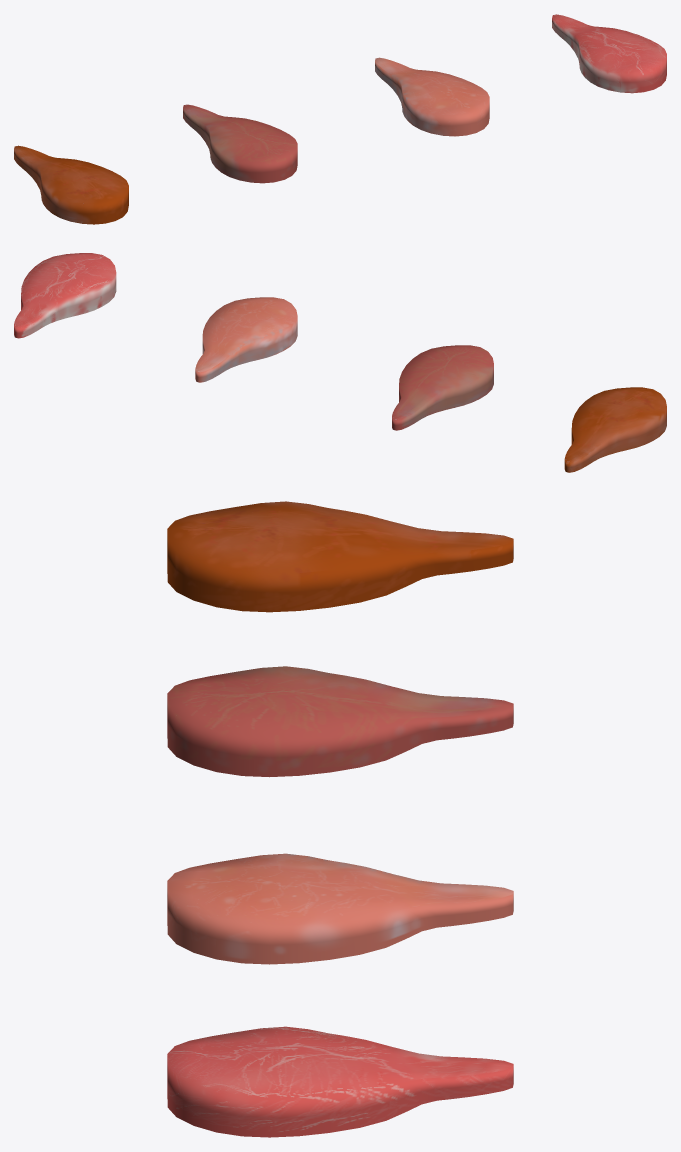
Rendered from steak.fbx.
3 views of the same model, one above another, from view 1: azimuth 30°, elevation 25°; view 2: azimuth 150°, elevation 25°; view 3: azimuth 270°, elevation 25° (orthographic). The views are drawn at different scales.
Parts seen in each view (by area): view 1: Steak_0, Steak_1, Steak_2, Steak_3; view 2: Steak_1, Steak_3, Steak_0, Steak_2; view 3: Steak_1, Steak_0, Steak_2, Steak_3.
Part boxes in pixels (x1,y1,x2,y2): Steak_0: [552, 14, 666, 93]; Steak_1: [375, 57, 489, 136]; Steak_2: [183, 104, 297, 183]; Steak_3: [14, 145, 128, 224]; Steak_1: [195, 297, 297, 382]; Steak_3: [564, 387, 666, 472]; Steak_0: [14, 253, 116, 338]; Steak_2: [392, 345, 493, 430]; Steak_1: [167, 853, 513, 964]; Steak_0: [167, 1026, 513, 1137]; Steak_2: [167, 666, 513, 777]; Steak_3: [167, 501, 513, 612].
Bounding box in the file's own units: 378 × 15.04 × 93.16.
